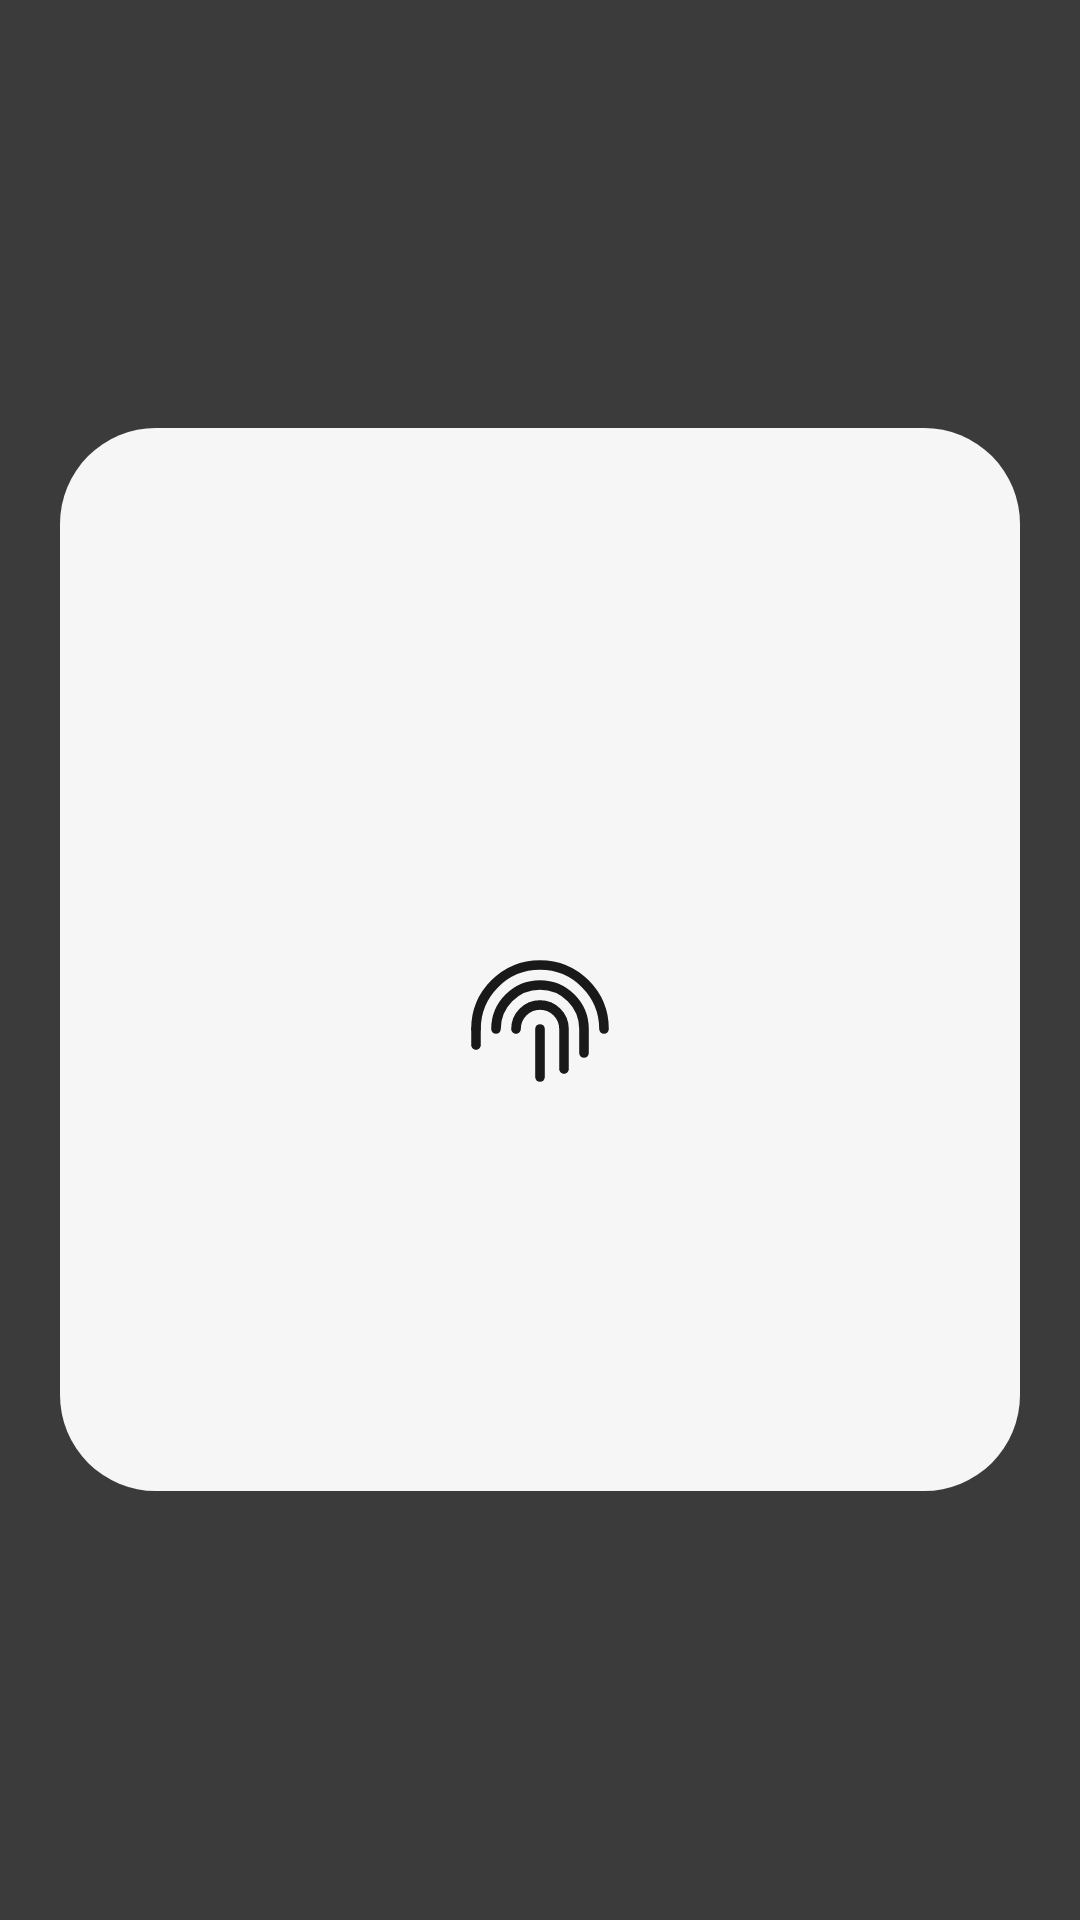

Screen size 1080px x 1920px. Icon name, then its box in pixels as {"x1": x1, "y1": y1, "x2": x2, "y2": y2}:
Fingerprint: {"x1": 471, "y1": 960, "x2": 609, "y2": 1082}
